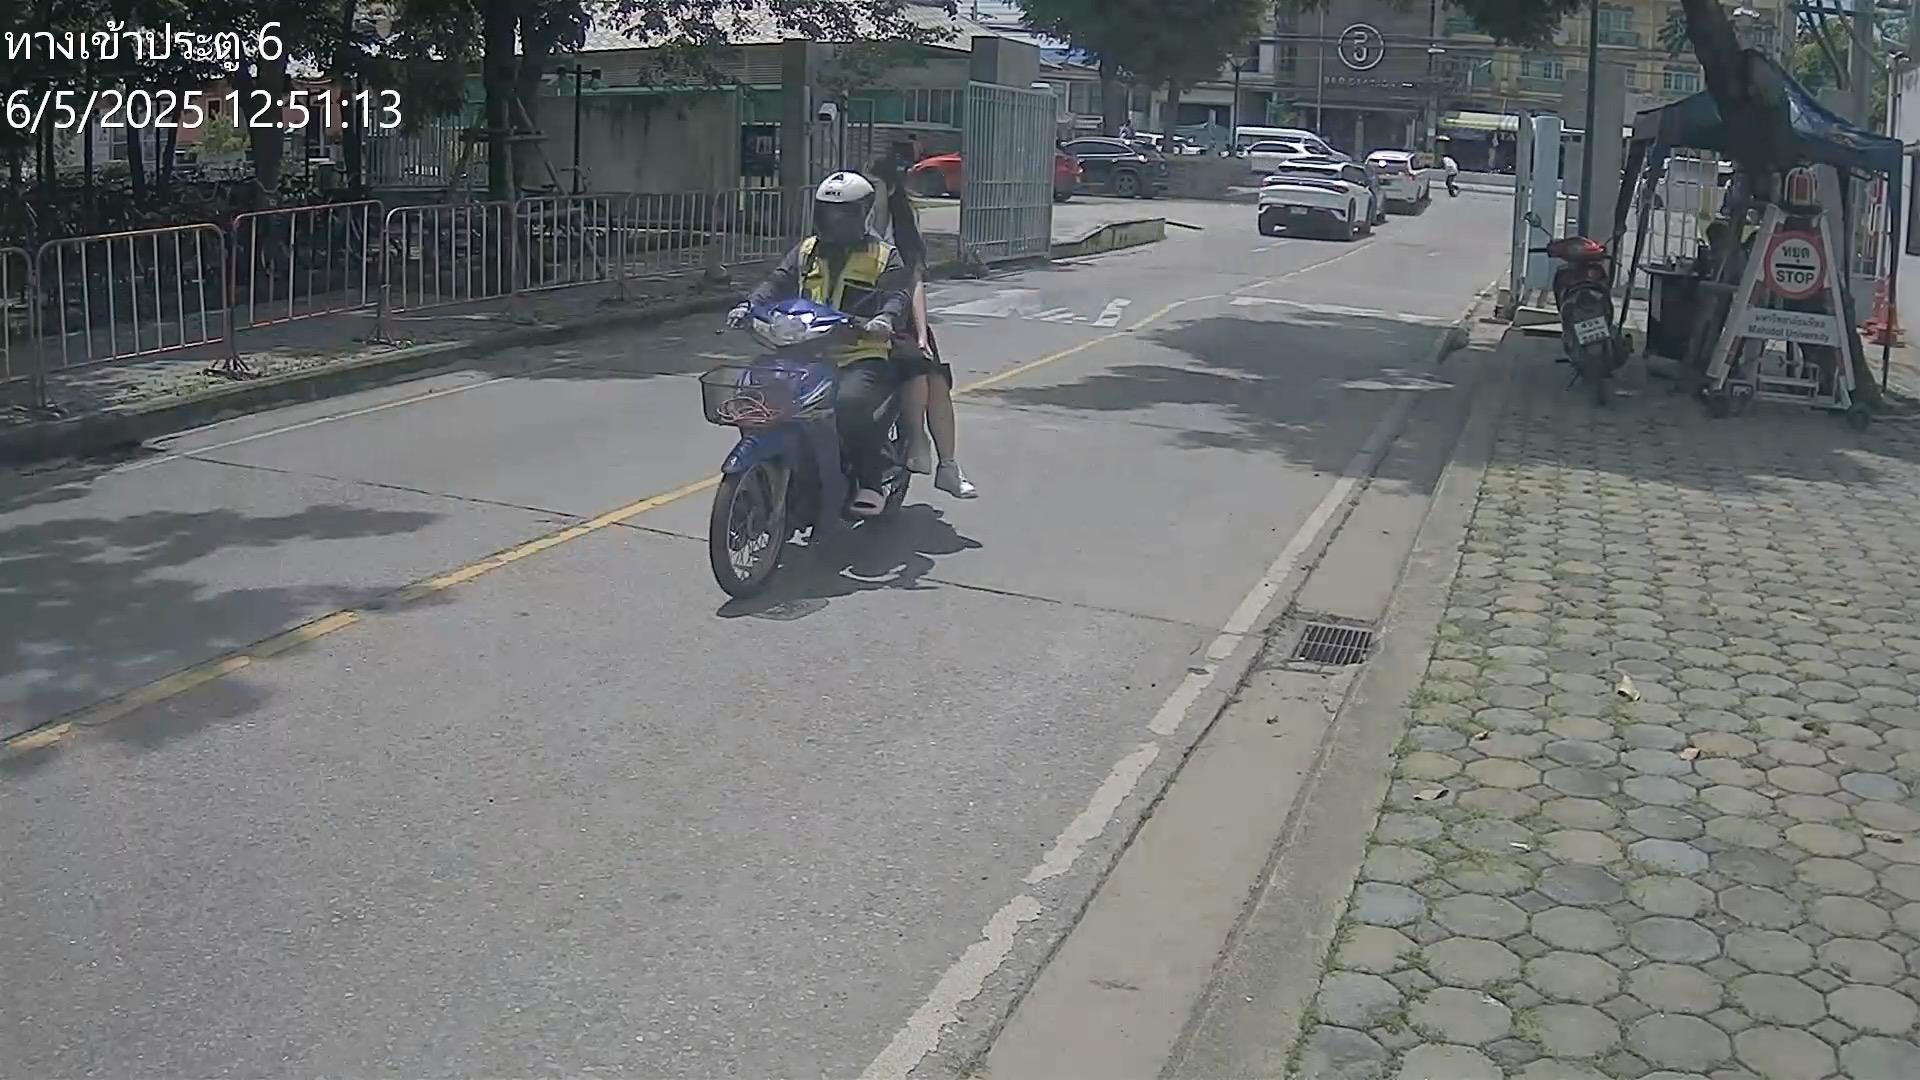With-Helmet: (812, 169, 873, 240)
